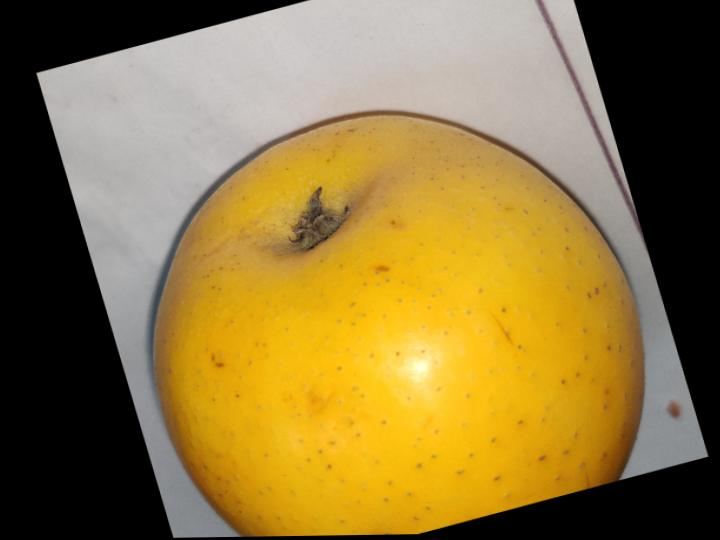apple: (154, 114, 643, 537)
